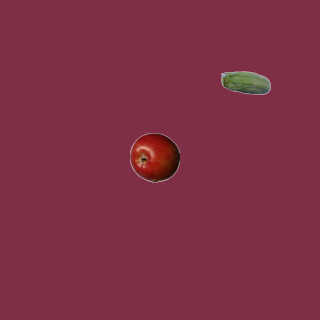Apple Braeburn: (129, 132, 179, 182)
Corn Husk: (220, 59, 270, 109)
